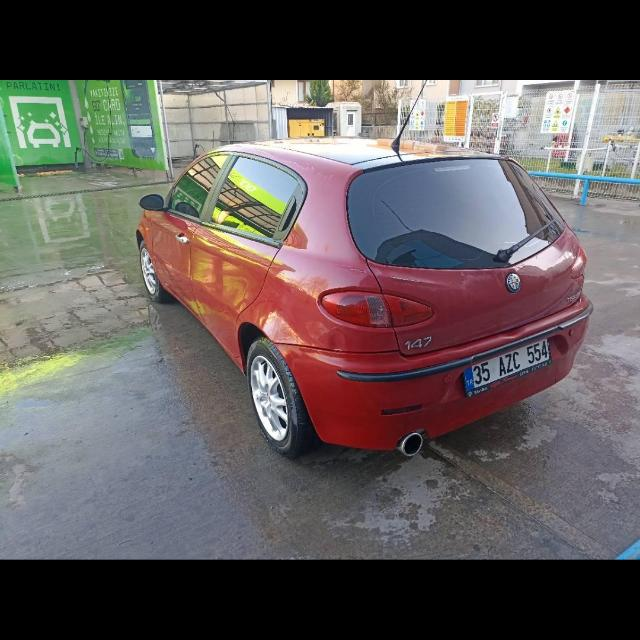Plaka: (464, 337, 552, 391)
